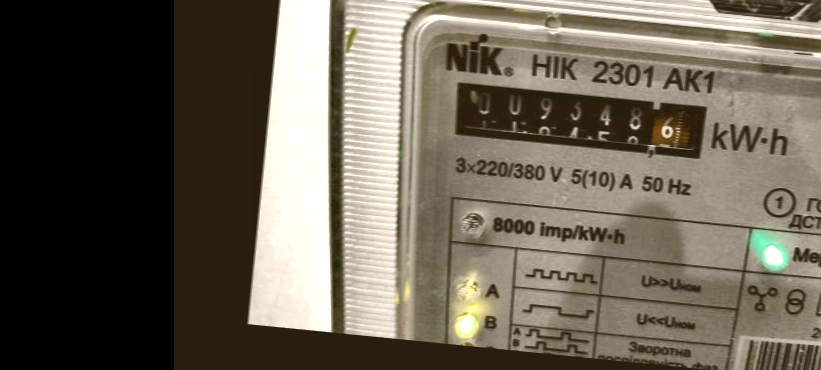0: (476, 87, 492, 114), (506, 90, 524, 114)
3: (567, 95, 583, 122)
4: (597, 98, 613, 126)
6: (658, 111, 677, 139)
8: (626, 102, 644, 131)
9: (536, 93, 553, 120)
screen: (442, 72, 717, 167)
